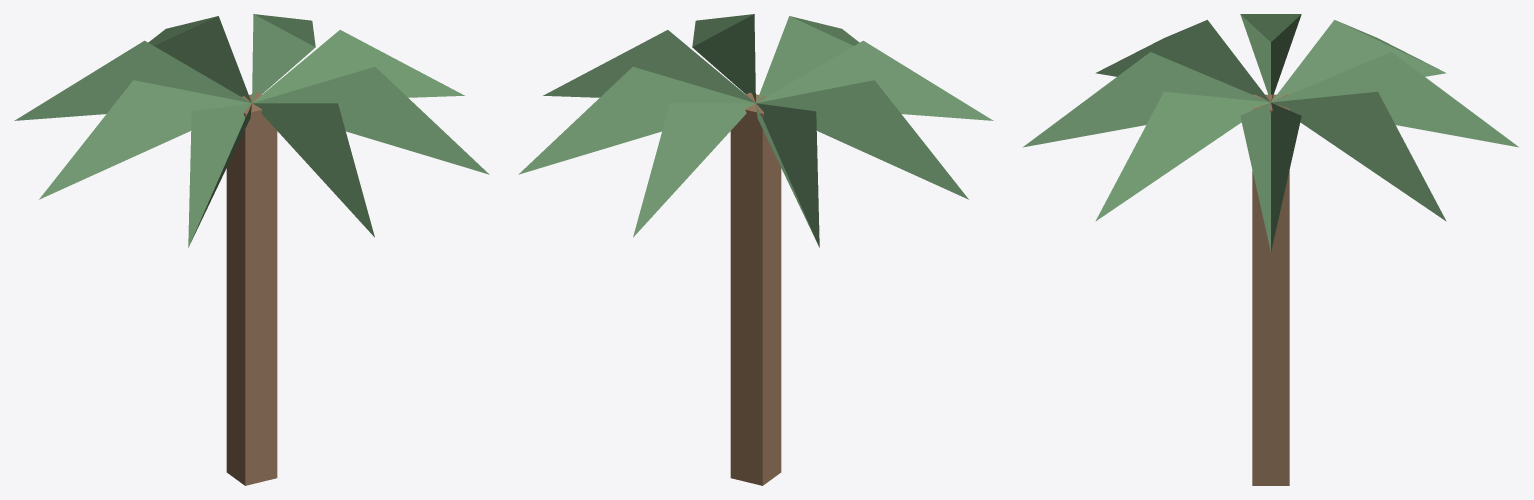
Rendered from palm.glb.
3 renders of one model, left to right at view 1: azimuth 30°, elevation 25°; view 2: azimuth 150°, elevation 25°; view 3: azimuth 270°, elevation 25°, orthographic.
Size of the model in its own units: 3 by 2.75 by 3.
